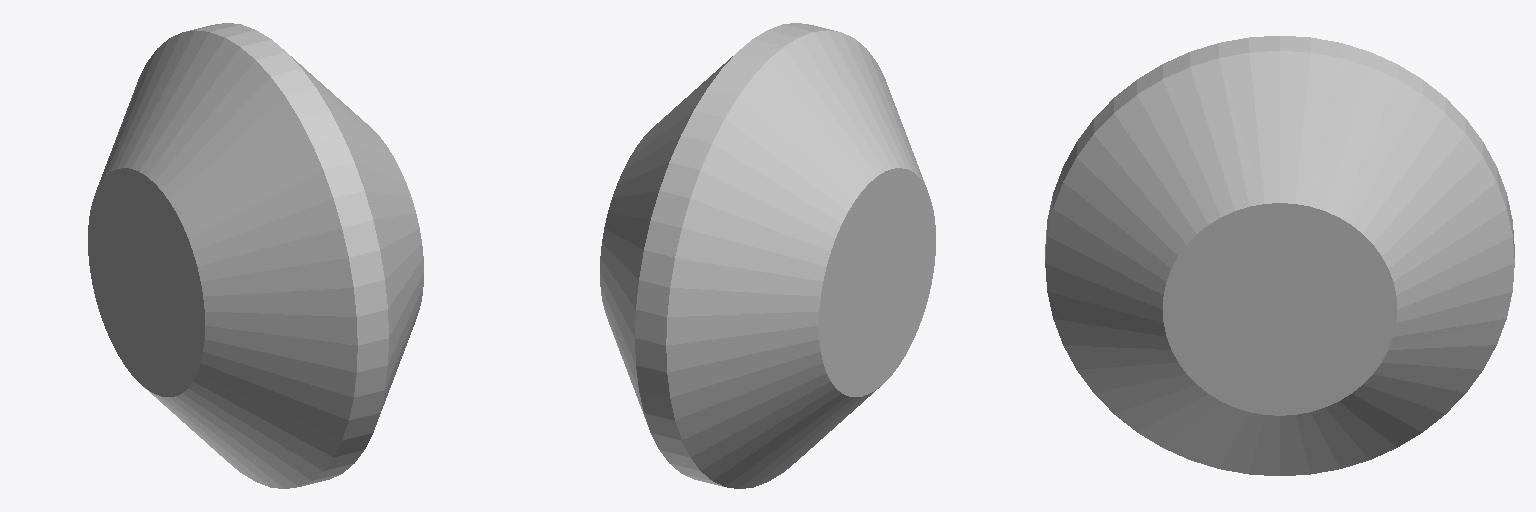
File: WheelShape3.obj
3 views of the same model, side by side, from view 1: azimuth 30°, elevation 25°; view 2: azimuth 150°, elevation 25°; view 3: azimuth 270°, elevation 25° (orthographic).
Visible parts, largest first — view 1: SketchUp; view 2: SketchUp; view 3: SketchUp.
Part boxes in pixels (left/top/right/bottom): SketchUp: left=88, top=23, right=423, bottom=488; SketchUp: left=600, top=23, right=935, bottom=488; SketchUp: left=1045, top=36, right=1514, bottom=475.
Bounding box in the file's own units: 0.0496 × 0.0921 × 0.0921.